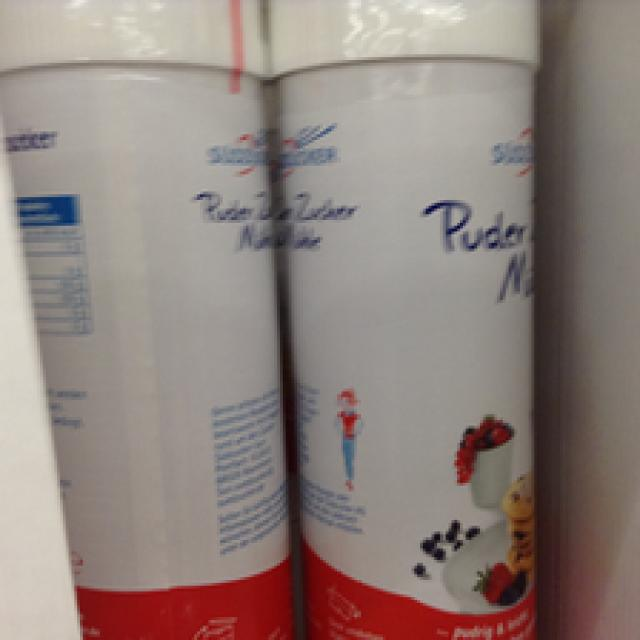groceries: (0, 0, 289, 637), (263, 0, 540, 637)
